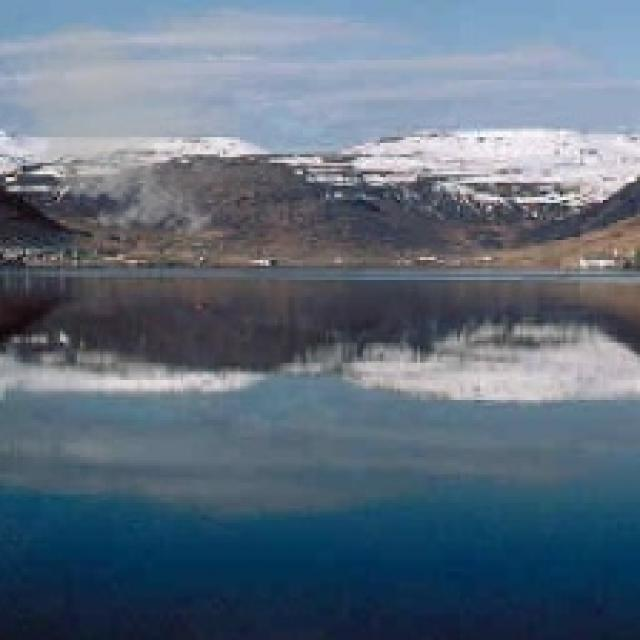Smoke: (8, 14, 240, 243)
